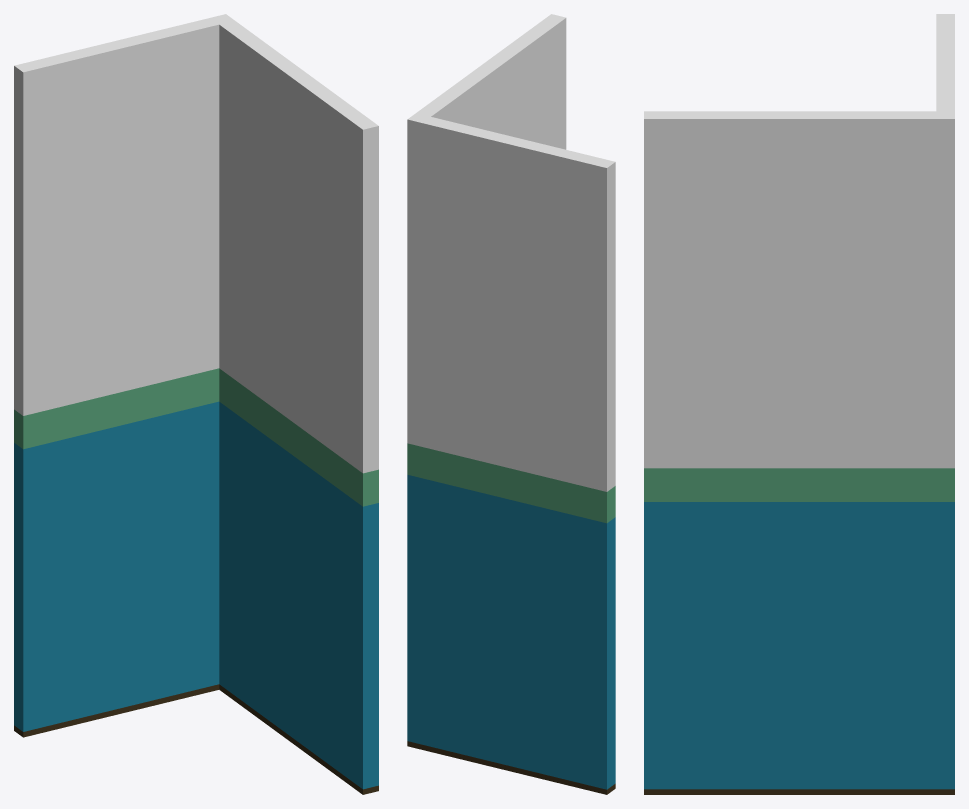
Rendered from SchoolPack-3-corner wall.obj.
The picture shows the model from 3 angles, left to right: view 1: azimuth 30°, elevation 25°; view 2: azimuth 150°, elevation 25°; view 3: azimuth 270°, elevation 25°; orthographic projection. The views are drawn at different scales.
Visible parts, largest first — view 1: corner wall; view 2: corner wall; view 3: corner wall.
Boxes of the visible parts, bbox=[...] form: corner wall: bbox=[14, 14, 378, 794]; corner wall: bbox=[407, 14, 615, 794]; corner wall: bbox=[644, 14, 954, 794].
Bounding box in the file's own units: 4 × 12 × 5.
Materials: 1 (1 with a texture image).
